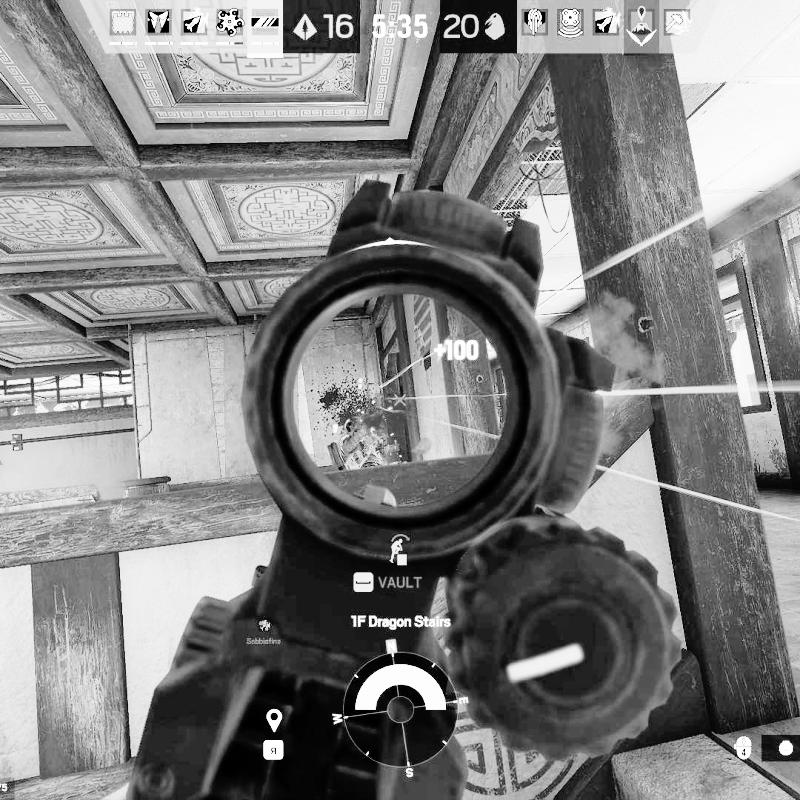Character: (328, 418, 387, 473)
Friend_label: (246, 617, 283, 647)
Head: (344, 418, 357, 431)
